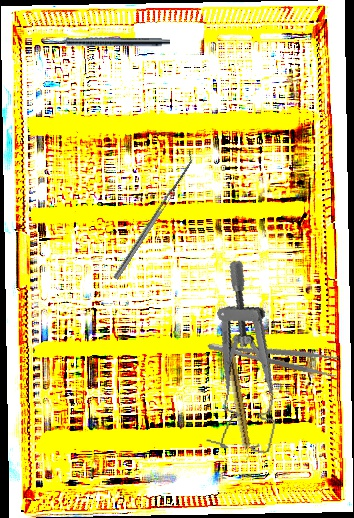Dressing Forceps: (206, 329, 341, 380)
Handpiece: (221, 339, 254, 462), (46, 35, 170, 47)
Spatula Surgical: (108, 149, 199, 281)
Speculum: (189, 258, 308, 460)
